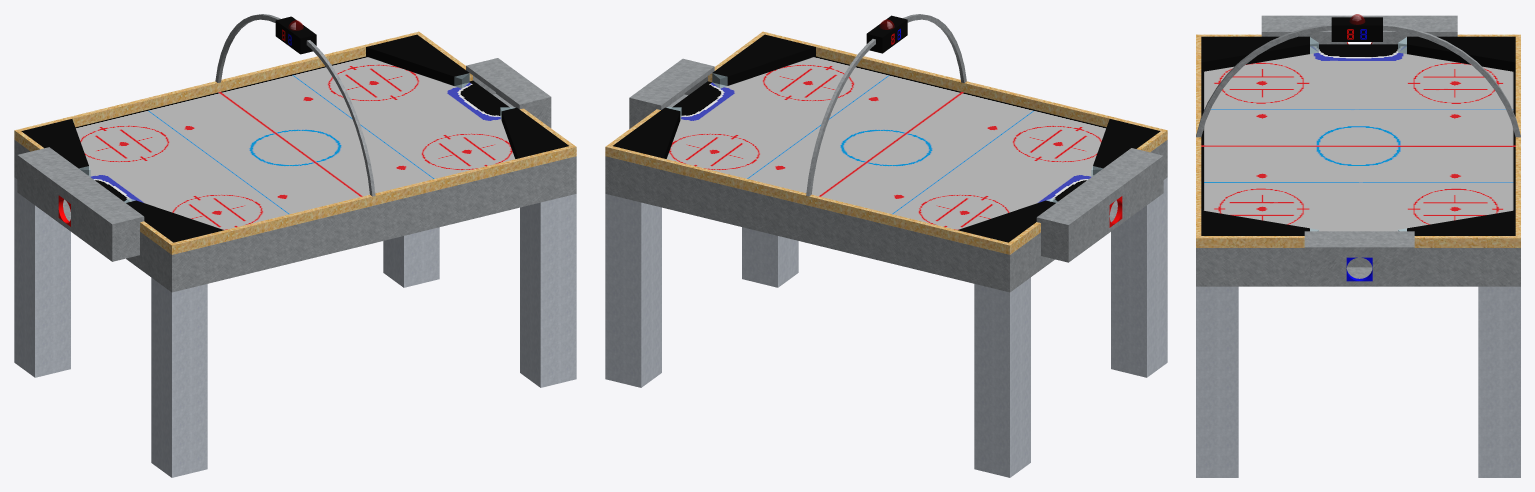
File: TableP_1.FBX
The picture shows the model from 3 angles, left to right: view 1: azimuth 30°, elevation 25°; view 2: azimuth 150°, elevation 25°; view 3: azimuth 270°, elevation 25°; orthographic projection. The views are drawn at different scales.
Visible parts, largest first — view 1: Layer0_001; view 2: Layer0_001; view 3: Layer0_001.
Part boxes in pixels (x1=…): Layer0_001: x1=14, y1=14, x2=576, y2=477; Layer0_001: x1=605, y1=14, x2=1167, y2=477; Layer0_001: x1=1196, y1=14, x2=1520, y2=477.
Size of the model in its own units: 2604 by 1898 by 1544.
Materials: 9 (5 with a texture image).
